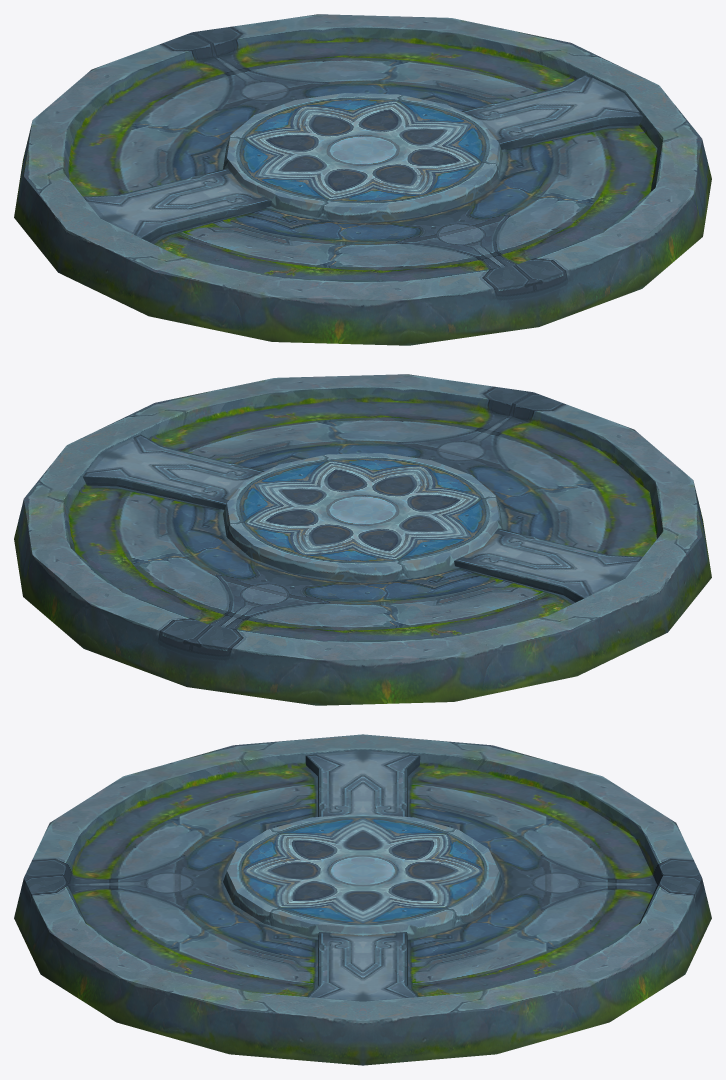
The model's file is fb_tys_zj_01_a.FBX.
3 views of the same model, one above another, from view 1: azimuth 30°, elevation 25°; view 2: azimuth 150°, elevation 25°; view 3: azimuth 270°, elevation 25° (orthographic).
Parts seen in each view (by area): view 1: fb_tys_zj_01_a; view 2: fb_tys_zj_01_a; view 3: fb_tys_zj_01_a.
Part boxes in pixels (<box>): fb_tys_zj_01_a: <box>14,14,711,345</box>; fb_tys_zj_01_a: <box>14,374,711,705</box>; fb_tys_zj_01_a: <box>14,734,711,1065</box>.
Size of the model in its own units: 1752 by 131 by 1752.
